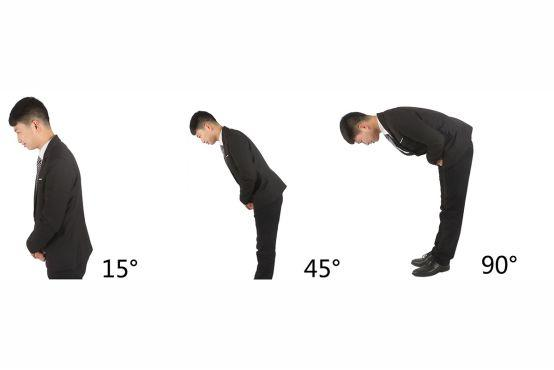bending: (337, 97, 478, 285), (180, 107, 293, 281), (9, 90, 99, 286)
